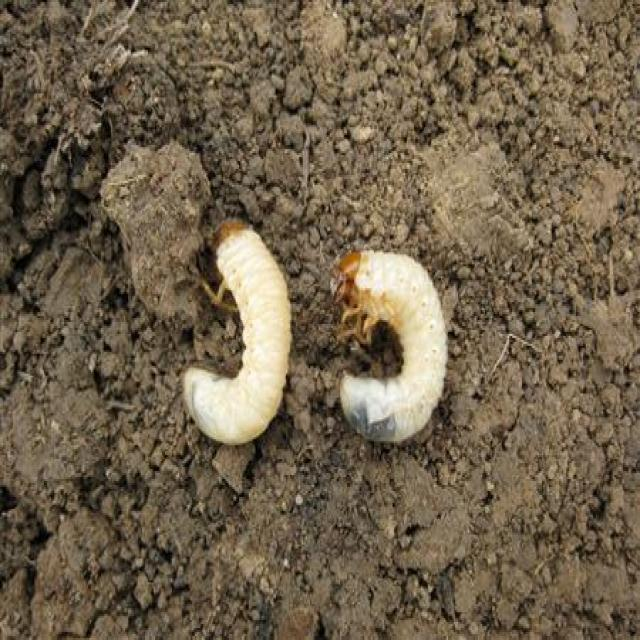Grub-Adult-: (146, 205, 293, 460), (316, 238, 471, 451)
